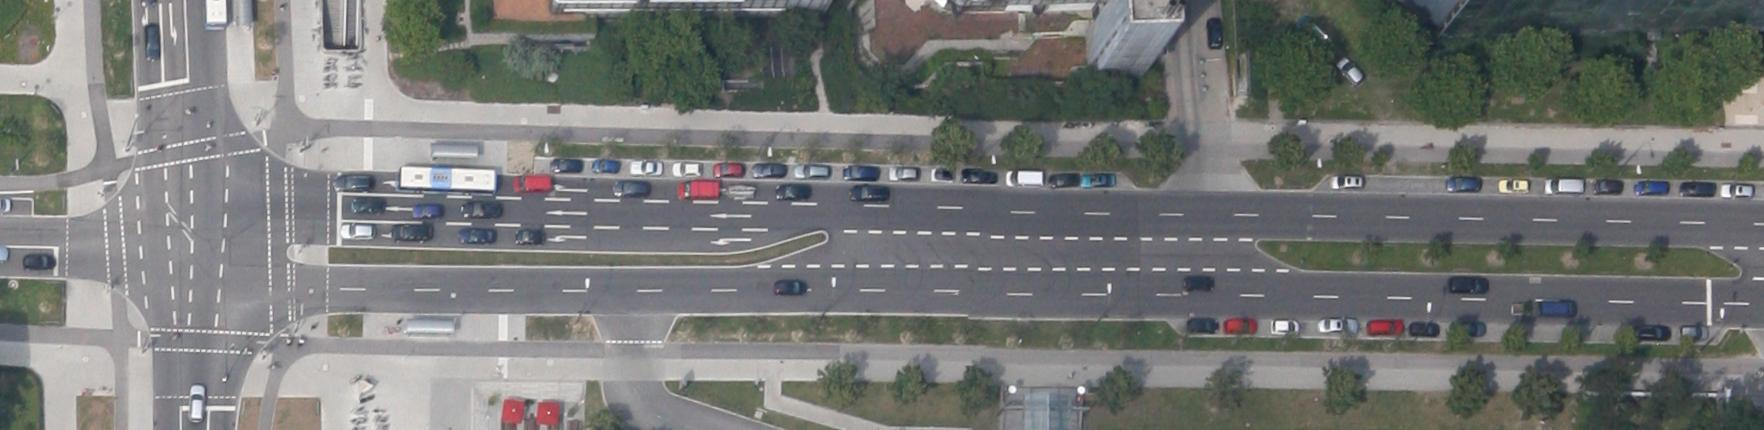car: (1333, 55, 1367, 88), (677, 180, 719, 200), (393, 223, 432, 242), (513, 174, 551, 194), (334, 172, 370, 192), (461, 200, 502, 218), (1449, 277, 1489, 294), (1543, 178, 1584, 195), (188, 384, 205, 423), (849, 185, 889, 201), (613, 179, 649, 197), (1538, 301, 1576, 317), (1006, 170, 1043, 187), (1318, 319, 1358, 334), (144, 25, 161, 61), (351, 196, 385, 214), (1367, 319, 1403, 335), (458, 227, 496, 243), (22, 253, 57, 270), (775, 183, 810, 200), (1446, 176, 1479, 192), (1678, 181, 1714, 197), (843, 164, 879, 180), (774, 279, 807, 296), (1206, 17, 1223, 50), (1224, 316, 1257, 333), (341, 224, 375, 240), (794, 163, 828, 179), (1633, 180, 1668, 195), (1187, 317, 1218, 333), (753, 162, 784, 178), (963, 169, 997, 183), (514, 229, 544, 244), (1408, 321, 1439, 337), (1639, 324, 1669, 340), (630, 161, 663, 176), (728, 182, 754, 200), (1270, 319, 1299, 334), (1592, 179, 1621, 195), (1331, 174, 1362, 189), (713, 162, 742, 178), (672, 161, 701, 177), (1183, 276, 1213, 292), (1719, 183, 1753, 197), (1050, 172, 1078, 188), (549, 159, 582, 172), (1081, 173, 1116, 186), (1498, 179, 1528, 194), (413, 204, 441, 218), (1678, 325, 1707, 340), (889, 165, 918, 179), (592, 159, 619, 172), (930, 167, 953, 181), (1511, 301, 1532, 315)
